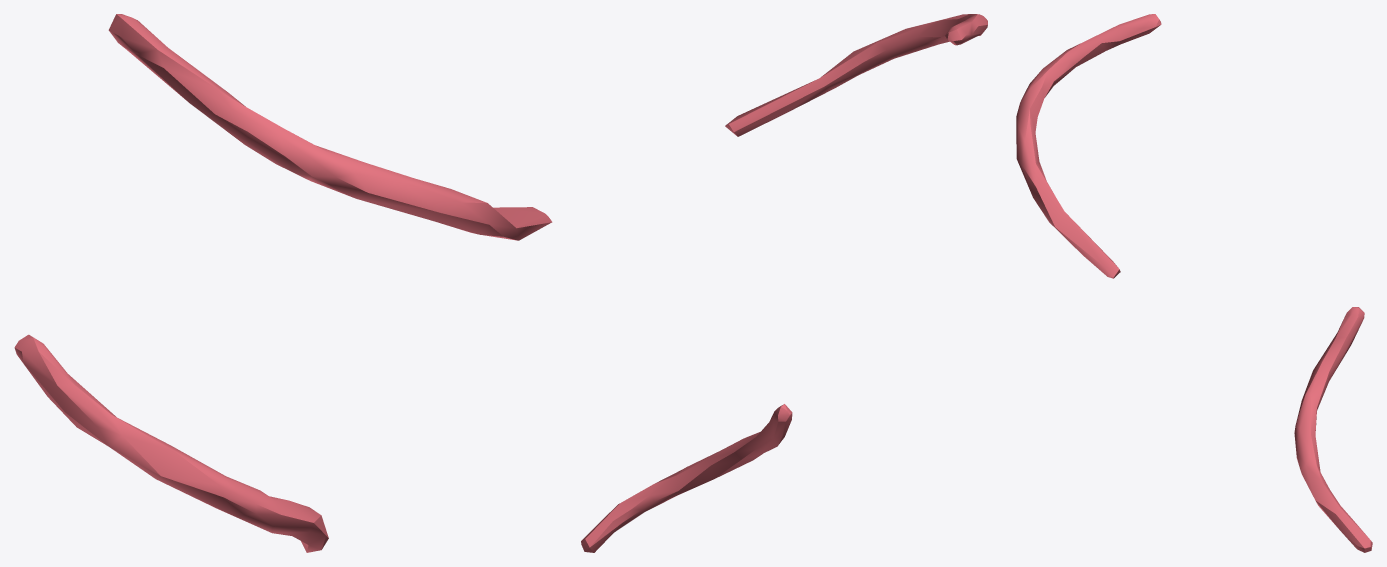
File: fma51400_fj4701.glb
3 views of the same model, side by side, from view 1: azimuth 30°, elevation 25°; view 2: azimuth 150°, elevation 25°; view 3: azimuth 270°, elevation 25° (orthographic). The views are drawn at different scales.
Visible parts, largest first — view 1: FMA51400_FJ4701; view 2: FMA51400_FJ4701; view 3: FMA51400_FJ4701.
Part boxes in pixels (x1,y1,x2,y2): FMA51400_FJ4701: [14, 14, 552, 552]; FMA51400_FJ4701: [581, 14, 987, 552]; FMA51400_FJ4701: [1016, 14, 1372, 552].
Bounding box in the file's own units: 0.00882 × 0.016 × 0.0119.
